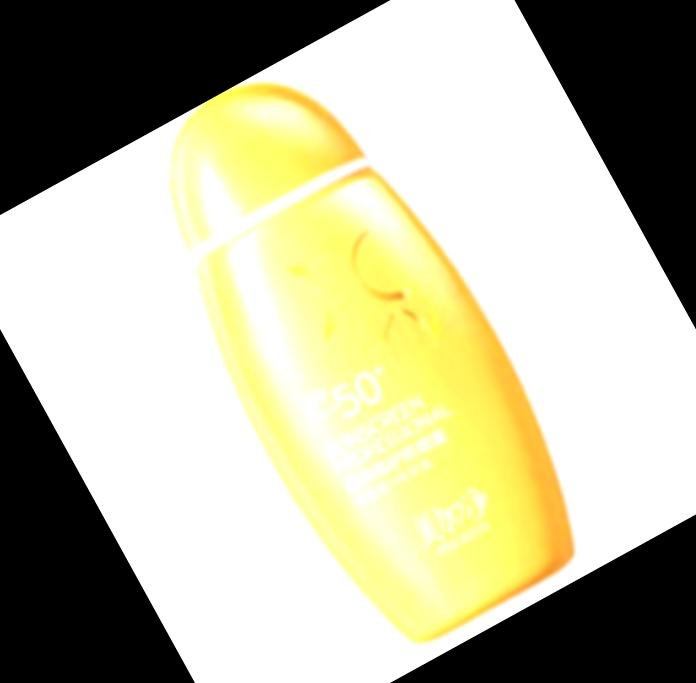cosmetic: (101, 34, 611, 671)
